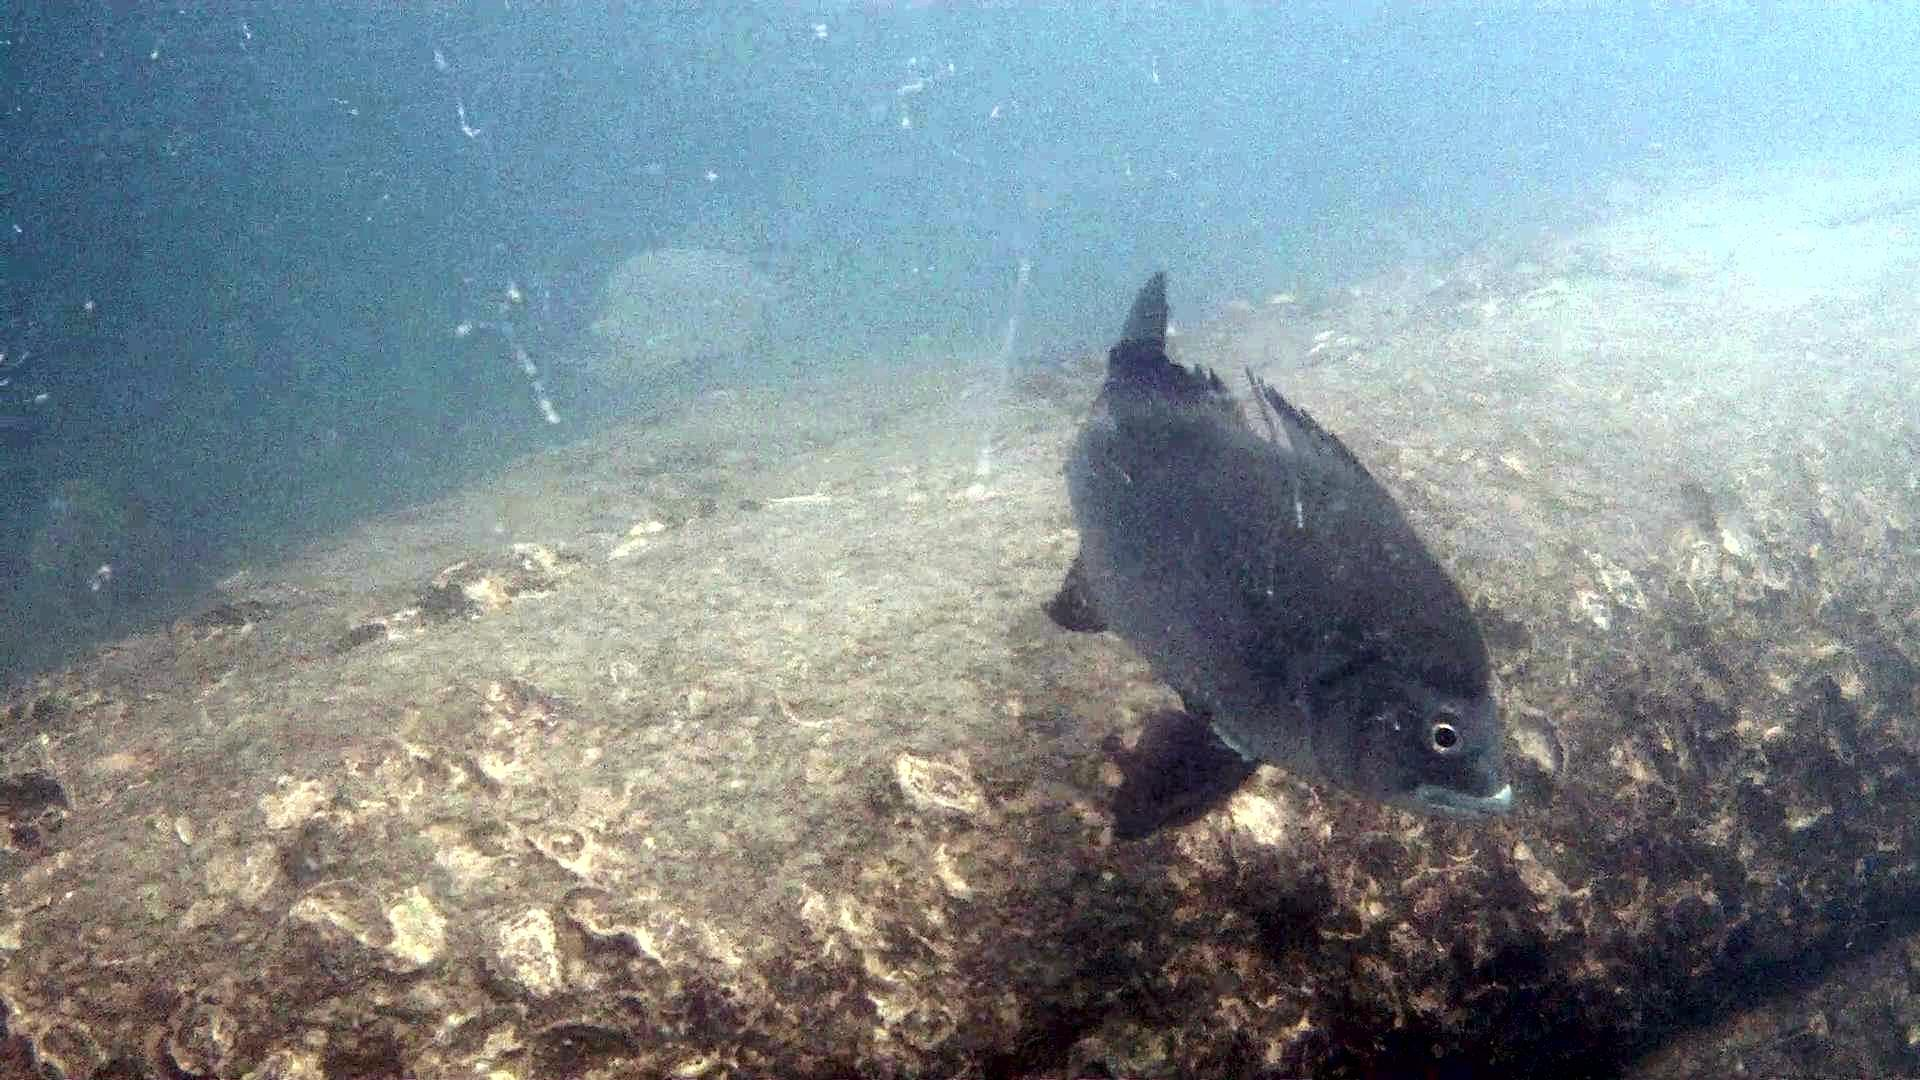acanthopagrus palmaris: (1018, 258, 1524, 853)
